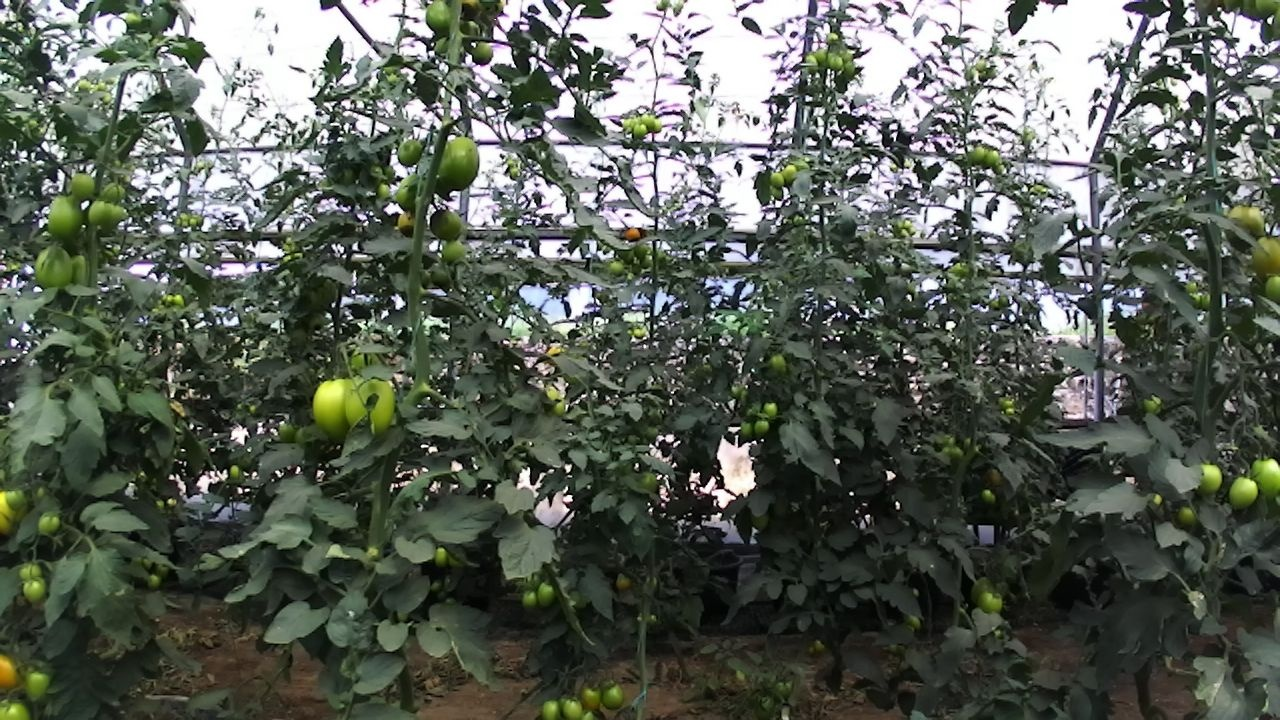tomato: (337, 363, 406, 450), (306, 365, 374, 453), (432, 127, 490, 195), (1220, 191, 1271, 261), (30, 238, 80, 298), (38, 190, 90, 247), (1243, 447, 1280, 514), (16, 653, 61, 707), (1222, 466, 1265, 519), (1244, 225, 1280, 287), (390, 168, 432, 215), (1187, 453, 1228, 500), (426, 201, 467, 245), (14, 557, 55, 600), (971, 580, 1013, 621), (419, 0, 463, 37), (65, 165, 103, 206), (391, 206, 433, 243), (31, 506, 74, 541), (17, 570, 55, 609), (391, 133, 428, 170), (593, 674, 629, 712), (466, 33, 499, 72), (532, 573, 562, 613), (0, 480, 32, 517), (1138, 384, 1168, 423), (576, 676, 606, 715), (85, 195, 117, 230), (542, 384, 571, 421), (516, 582, 544, 619), (439, 237, 471, 269), (556, 689, 588, 720), (356, 161, 386, 193), (765, 347, 792, 381), (977, 483, 1005, 513), (535, 693, 566, 720), (429, 540, 454, 573), (1172, 500, 1199, 530), (735, 416, 761, 447), (225, 458, 250, 489), (335, 163, 359, 194), (610, 567, 635, 595), (759, 395, 782, 425), (779, 160, 802, 190), (979, 145, 1003, 173), (142, 568, 166, 596), (751, 413, 773, 442), (620, 220, 645, 245), (822, 48, 847, 72), (638, 108, 660, 135), (765, 179, 788, 204), (968, 142, 990, 168), (373, 178, 394, 205), (822, 26, 844, 51), (801, 50, 822, 76), (766, 166, 788, 190), (630, 119, 649, 142), (607, 257, 626, 280), (813, 43, 831, 66), (841, 56, 857, 78), (649, 116, 665, 136)
